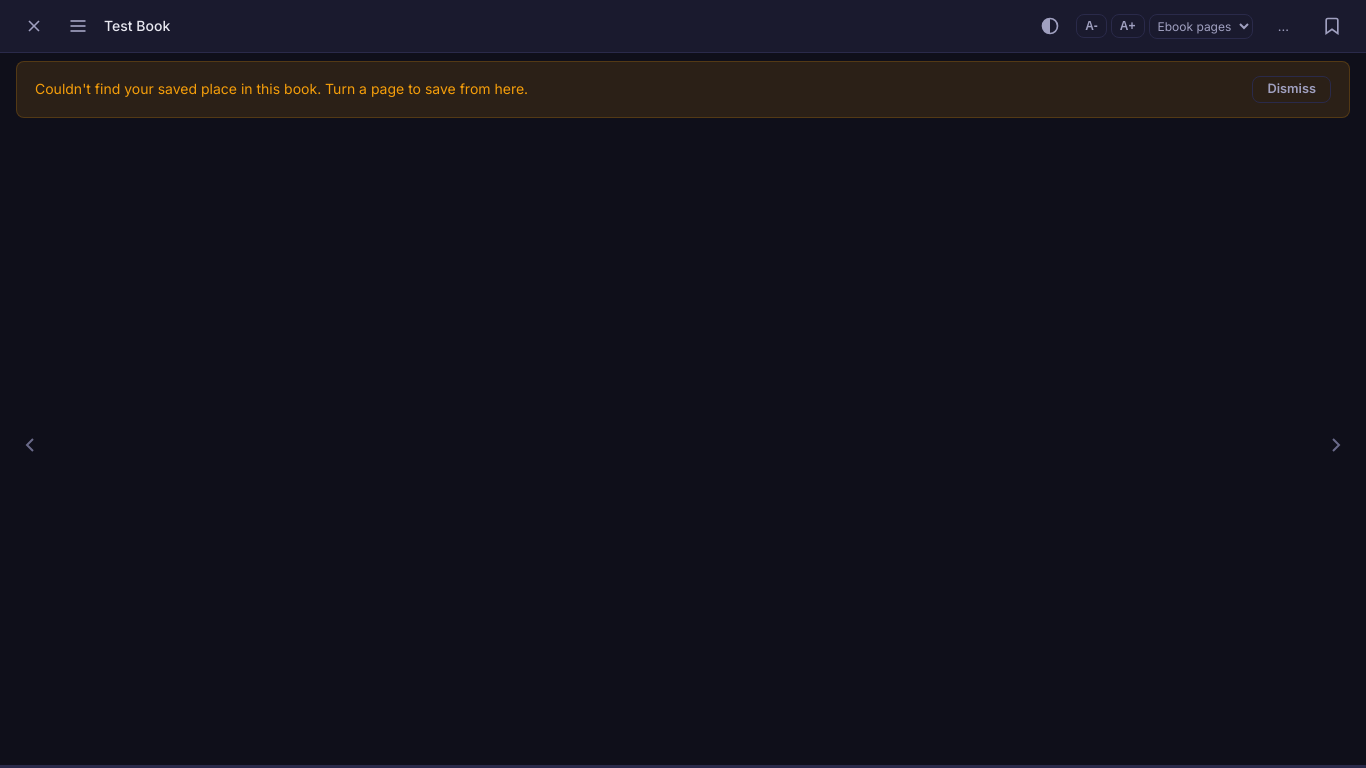
Test: EbookReader — unresolved restore is told and recoverable (issue #159) › shows a persistent, dismissible banner when the stored position cannot be resolved
expect the text "Couldn't find your saved place" is shown: met, box [35,80,528,97]
Click the button "Dismiss" at [1292, 89], box [1252,76,1331,103]
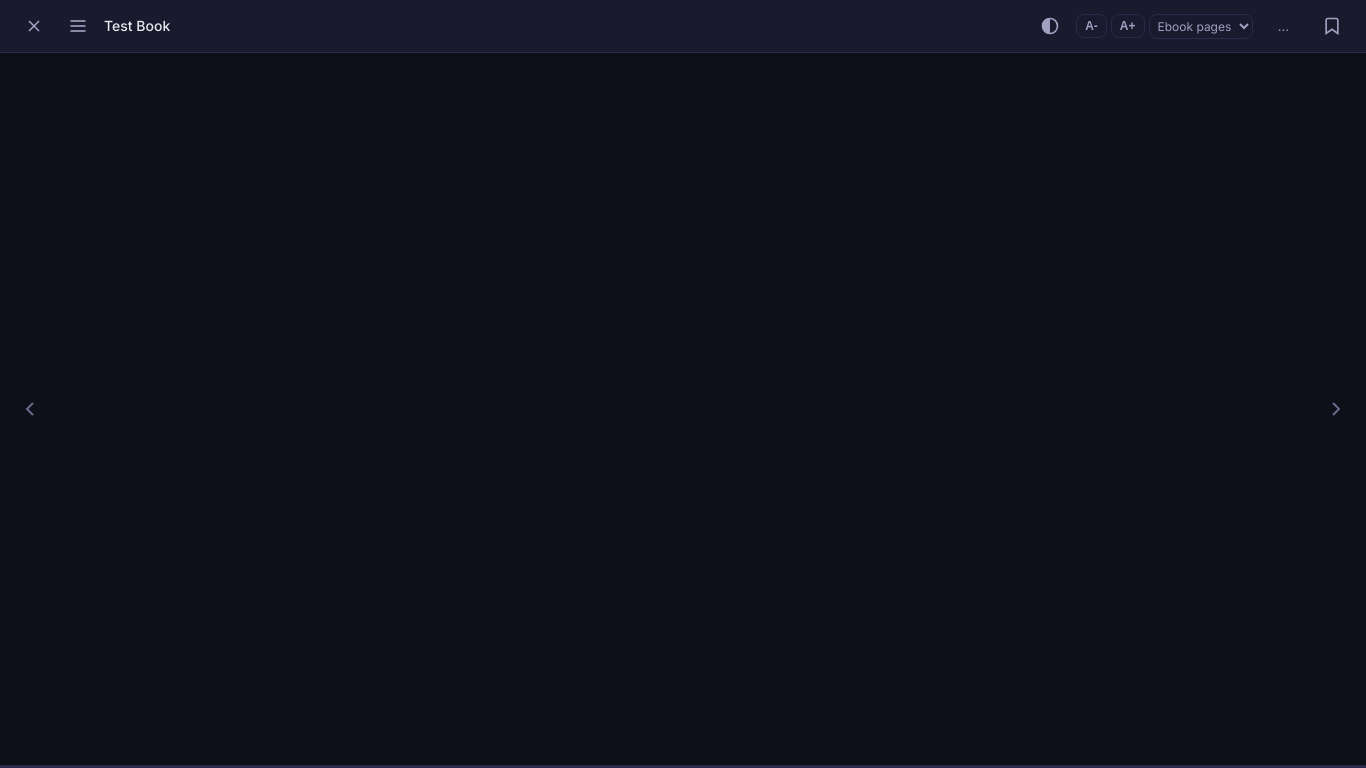
expect the text "Couldn't find your saved place" is gone: met
